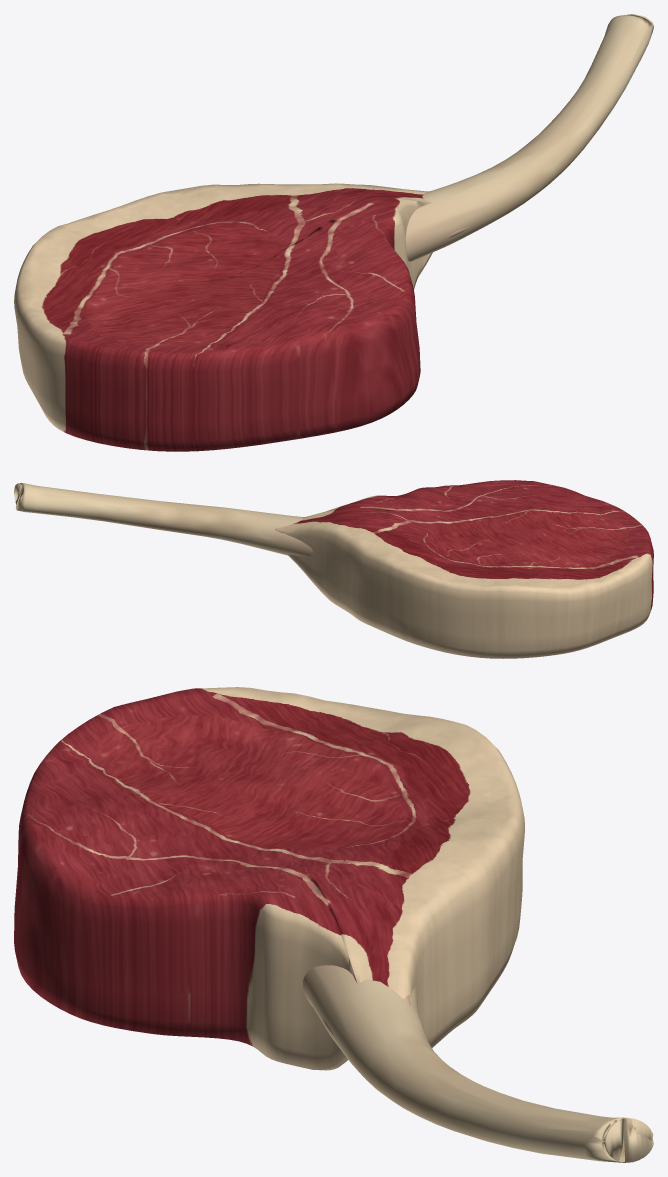
File: lamb.glb
The picture shows the model from 3 angles, top to bottom: view 1: azimuth 30°, elevation 25°; view 2: azimuth 150°, elevation 25°; view 3: azimuth 270°, elevation 25°; orthographic projection. The views are drawn at different scales.
Parts seen in each view (by area): view 1: lamb; view 2: lamb; view 3: lamb.
Boxes of the visible parts, box(x1,y1,x2,y2) form: lamb: box(14, 14, 653, 451); lamb: box(14, 480, 653, 658); lamb: box(14, 687, 653, 1162).
Size of the model in its own units: 0.147 by 0.0246 by 0.0803.
2 materials, 1 textured.
